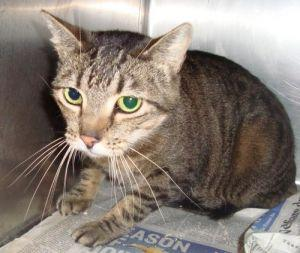bengal: (32, 1, 200, 170)
